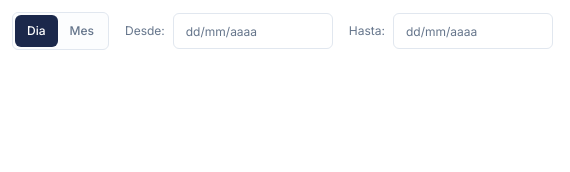
Test: FiltrosDashboard › formatea el filtro Desde y notifica al padre con el ISO
The image size is (570, 172).
Type "16092026" into the field with placeholder "dd/mm/aaaa" next to "Desde:" at (253, 31), box [173,13,333,49]
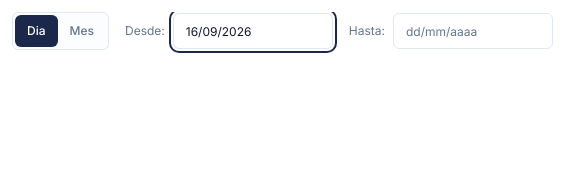
Check: the field with placeholder "dd/mm/aaaa" holds "16/09/2026", box [173,13,333,49]
